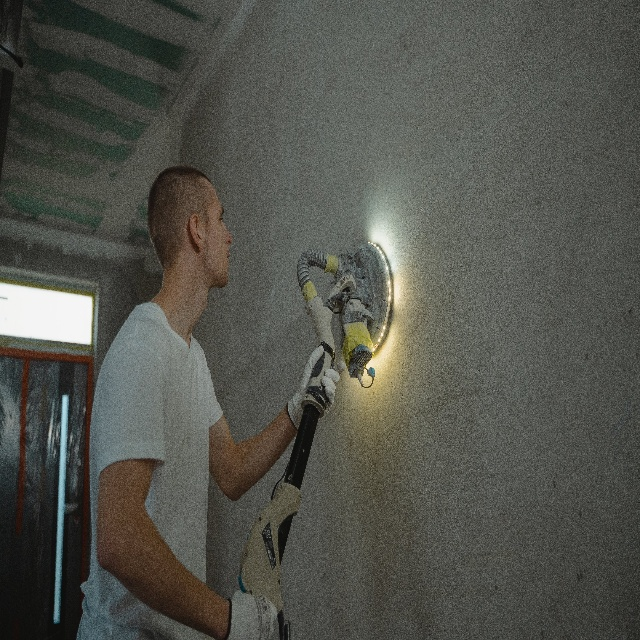Guantes: (286, 343, 345, 426), (228, 592, 282, 638)
